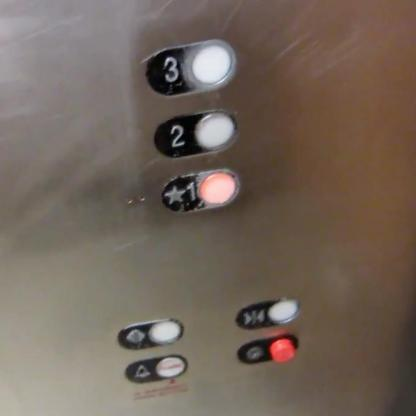2: (154, 109, 238, 159)
3: (146, 39, 236, 96)
alarm: (125, 354, 187, 384)
close: (235, 296, 300, 330)
open: (117, 318, 184, 350)
s1: (160, 168, 240, 214)
stop: (237, 334, 298, 364)
